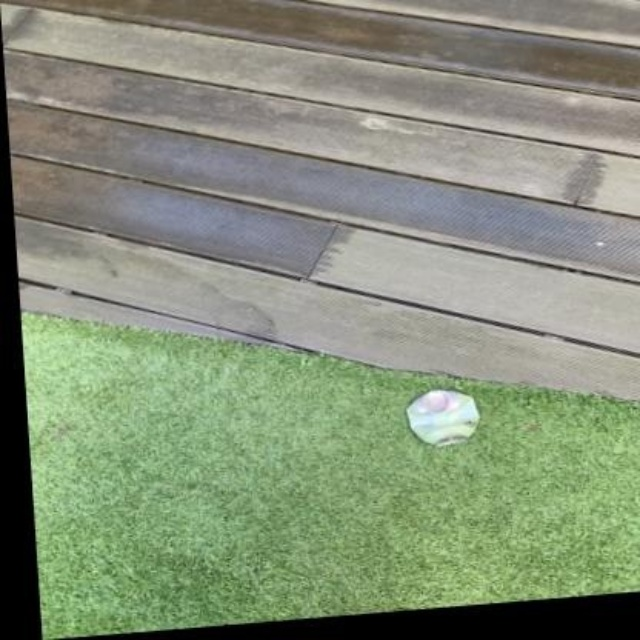trash: (406, 389, 478, 443)
